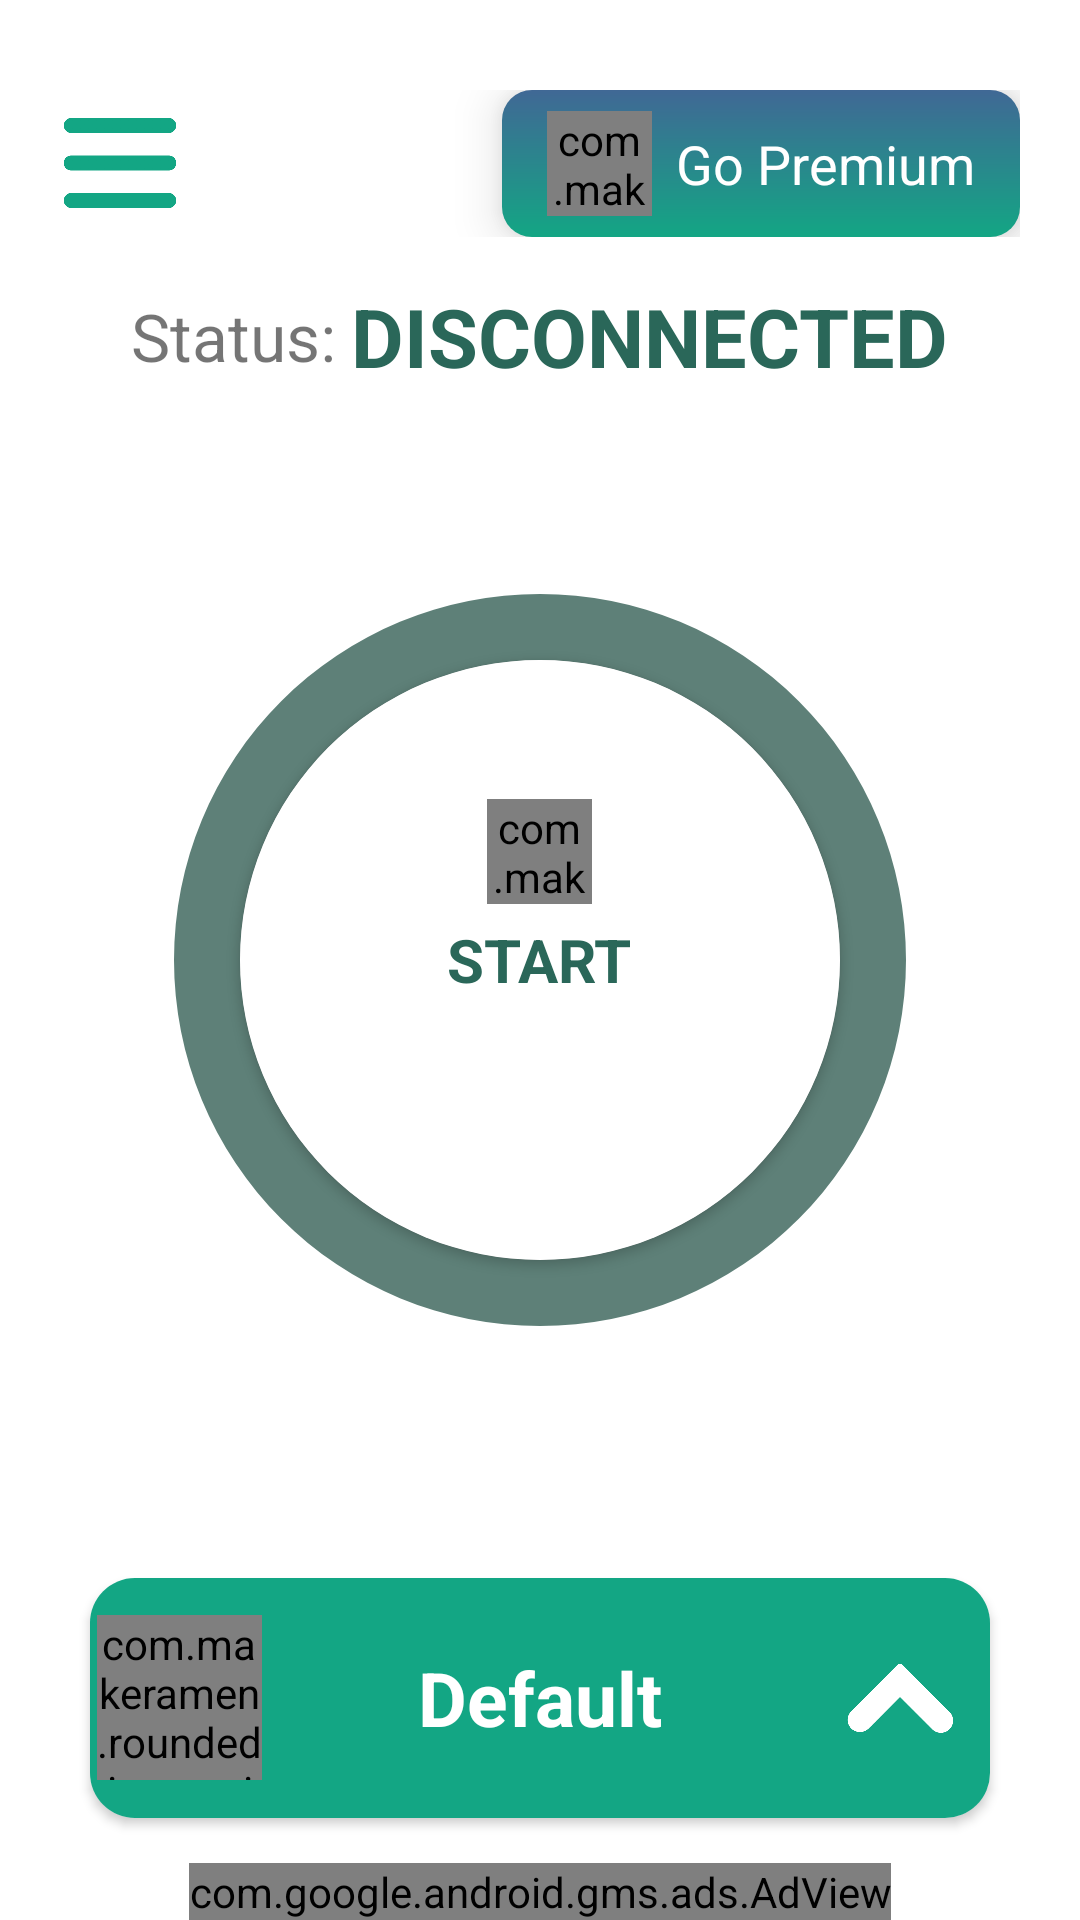

Icon click points for this 1080 × 1920 phone screenshot, format (x=x, y=y):
hamburger menu: (x=120, y=163)
up arrow: (x=900, y=1698)
